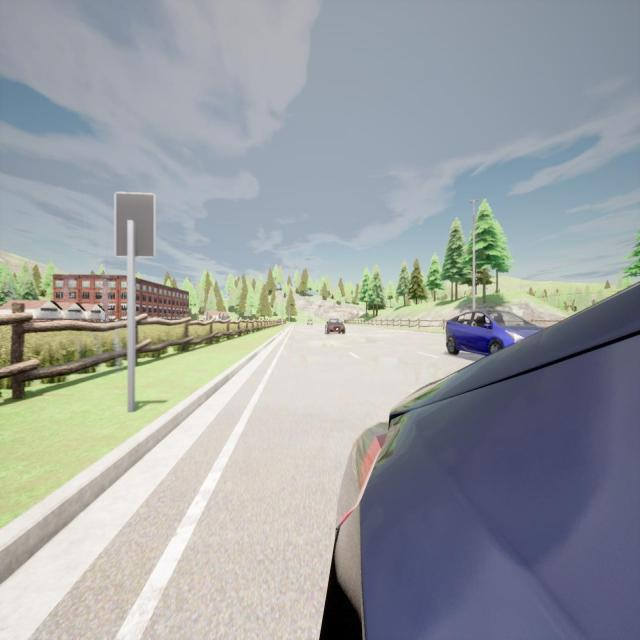Traffic_Signs: (115, 193, 154, 256)
Vehicle: (322, 283, 640, 638), (446, 309, 534, 356), (324, 318, 346, 335), (306, 317, 314, 326)
